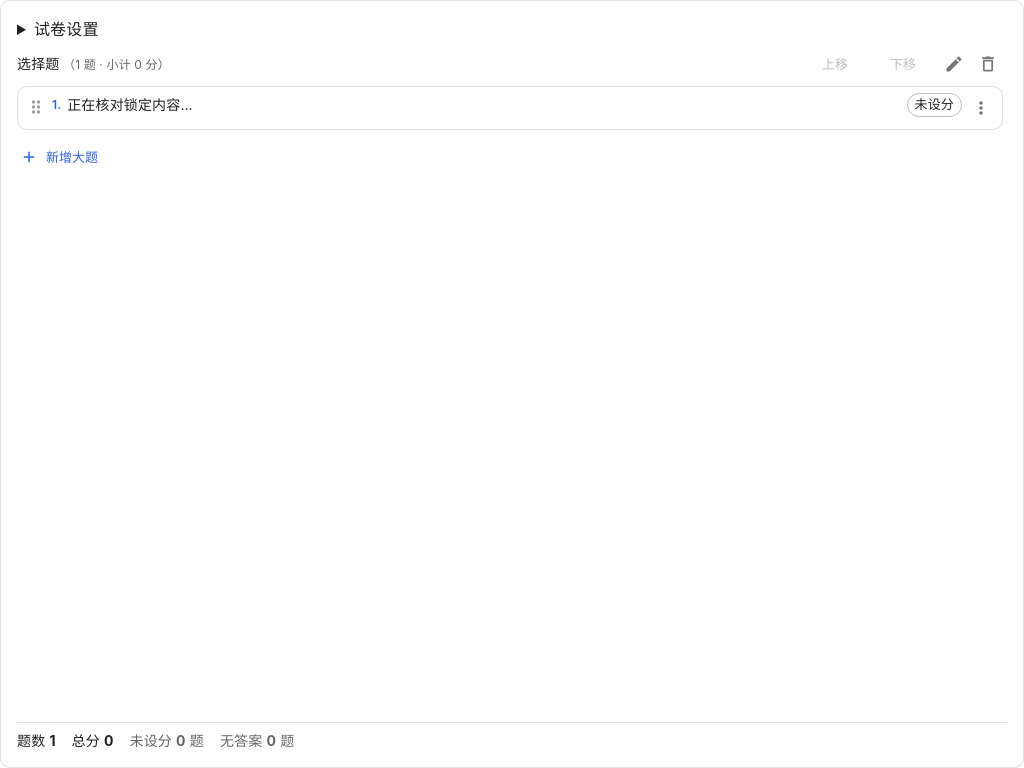
Scenario: B0 系统文案 › 大题删除确认用 strong，保留不会丢失事实
This screenshot has width=1024, height=768.
Click the button named "删除大题" at (988, 64), box [973,49,1003,79]
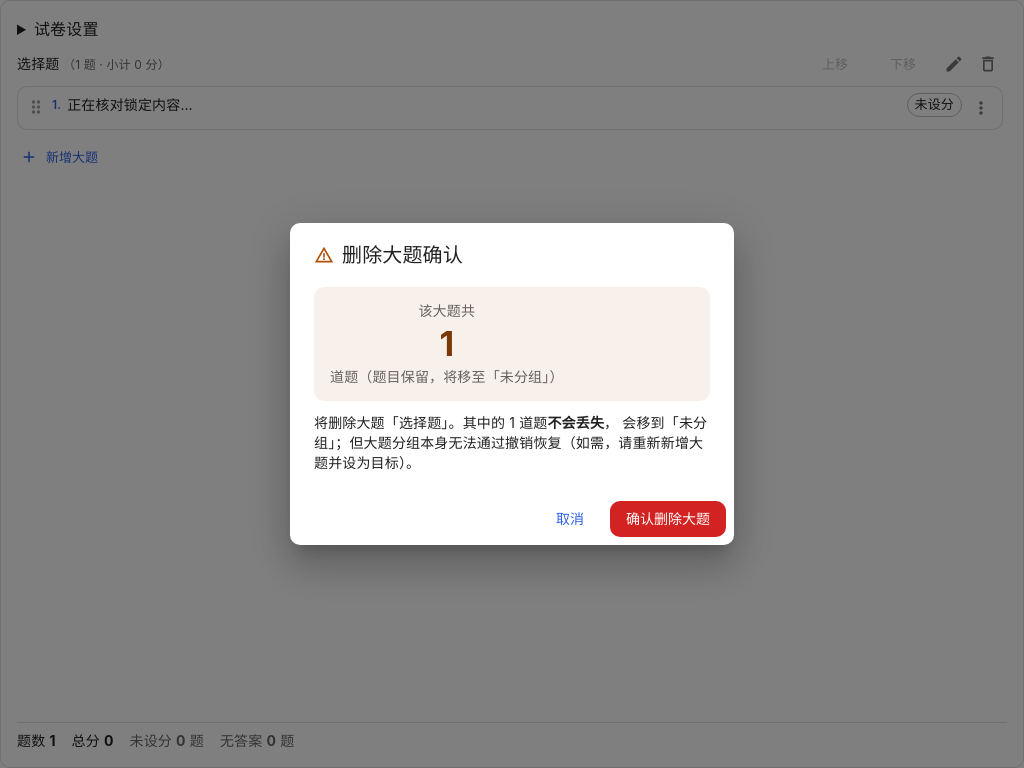
Check: the text "不会丢失" is shown, box [548,414,604,431]
